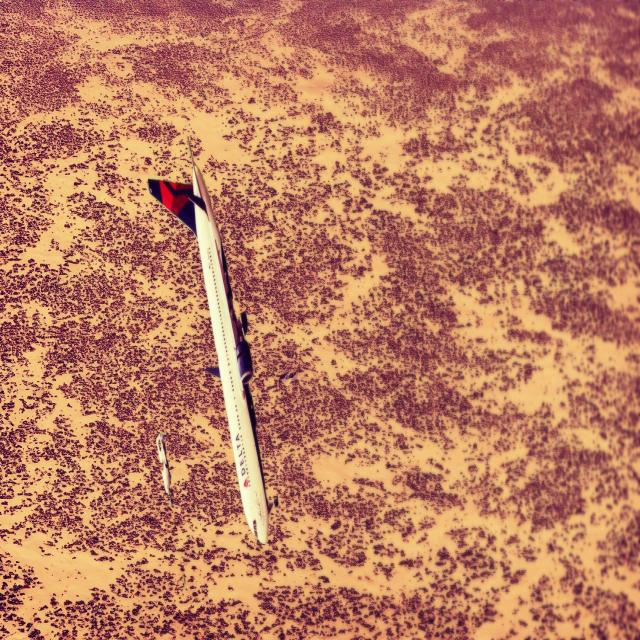airplane: (146, 137, 270, 545)
